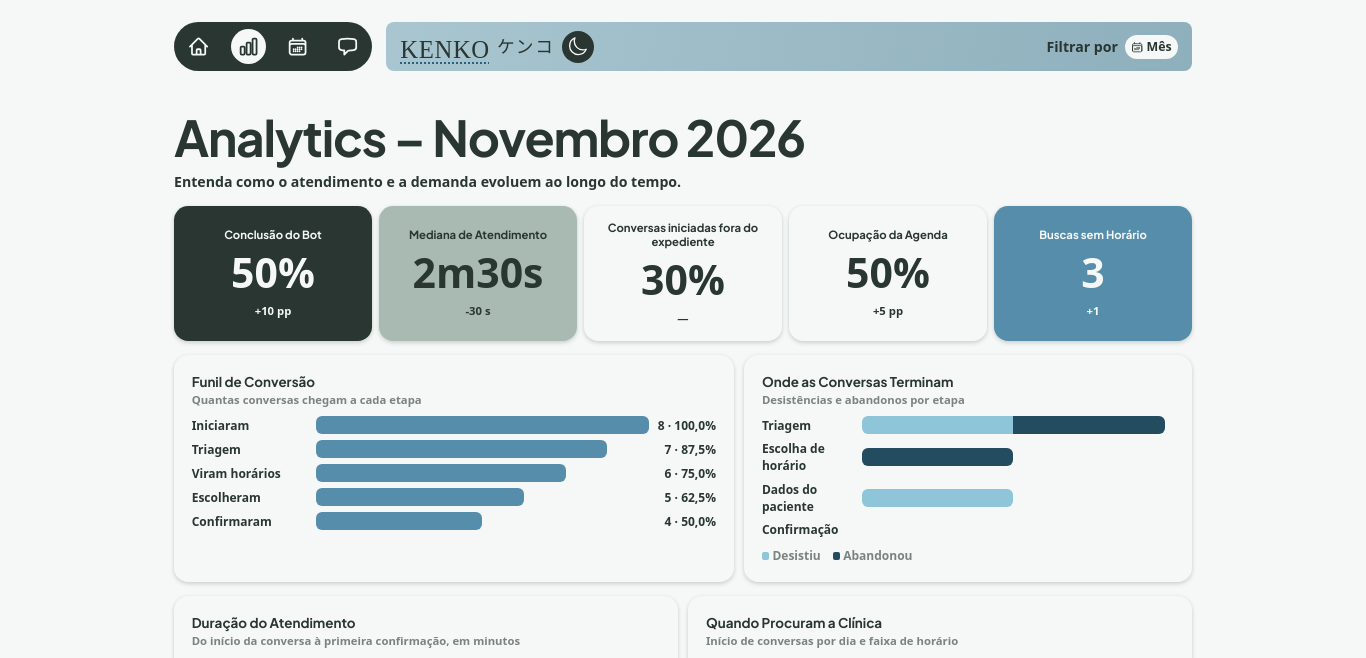
rejeita ano futuro em rascunho e descarta a edição com Escape
Click the heading named "Período de Analytics".
click(1151, 47)  # box x1=1125 y1=35 x2=1178 y2=59
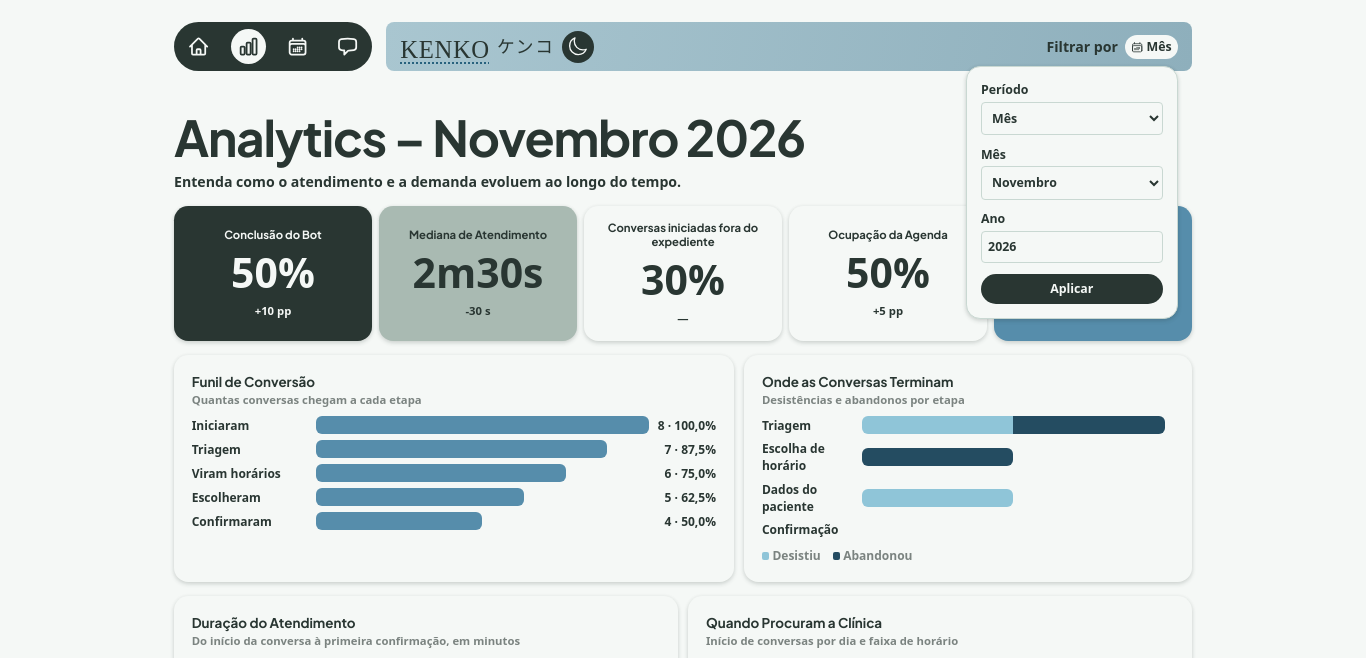
Select "Ano" in the dropdown labelled "Período" at (1072, 118), box x1=981 y1=102 x2=1163 y2=135
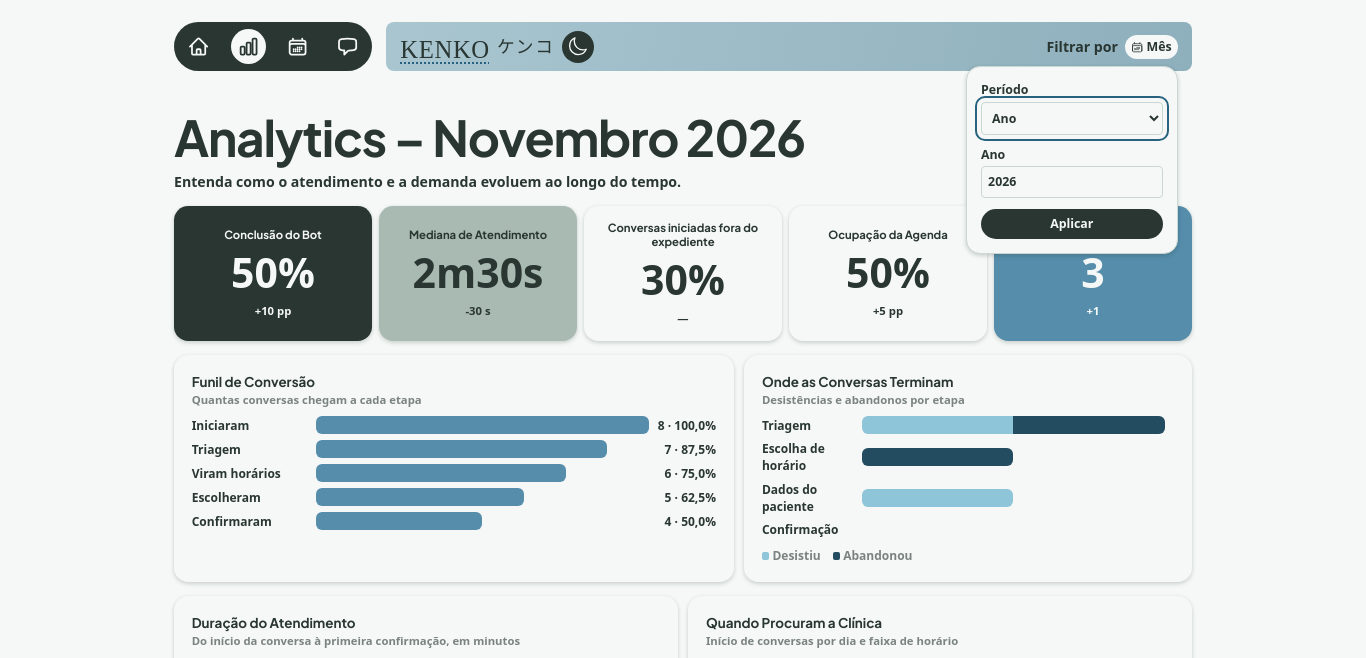
Replace the text in the number field labelled "Ano" with "2027" at (1072, 182), box x1=981 y1=166 x2=1163 y2=198
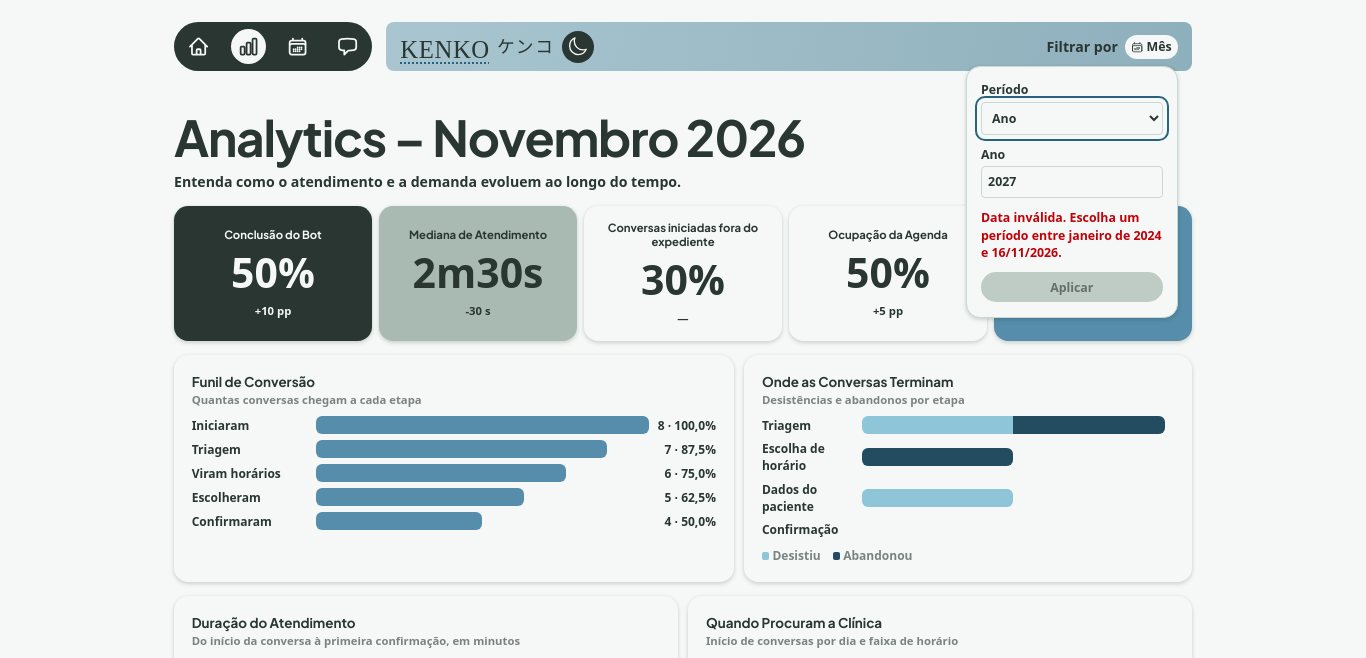
expect the button "Aplicar" is disabled: met, box x1=981 y1=272 x2=1163 y2=302
Submit the form, box x1=966 y1=66 x2=1178 y2=318
Press Escape
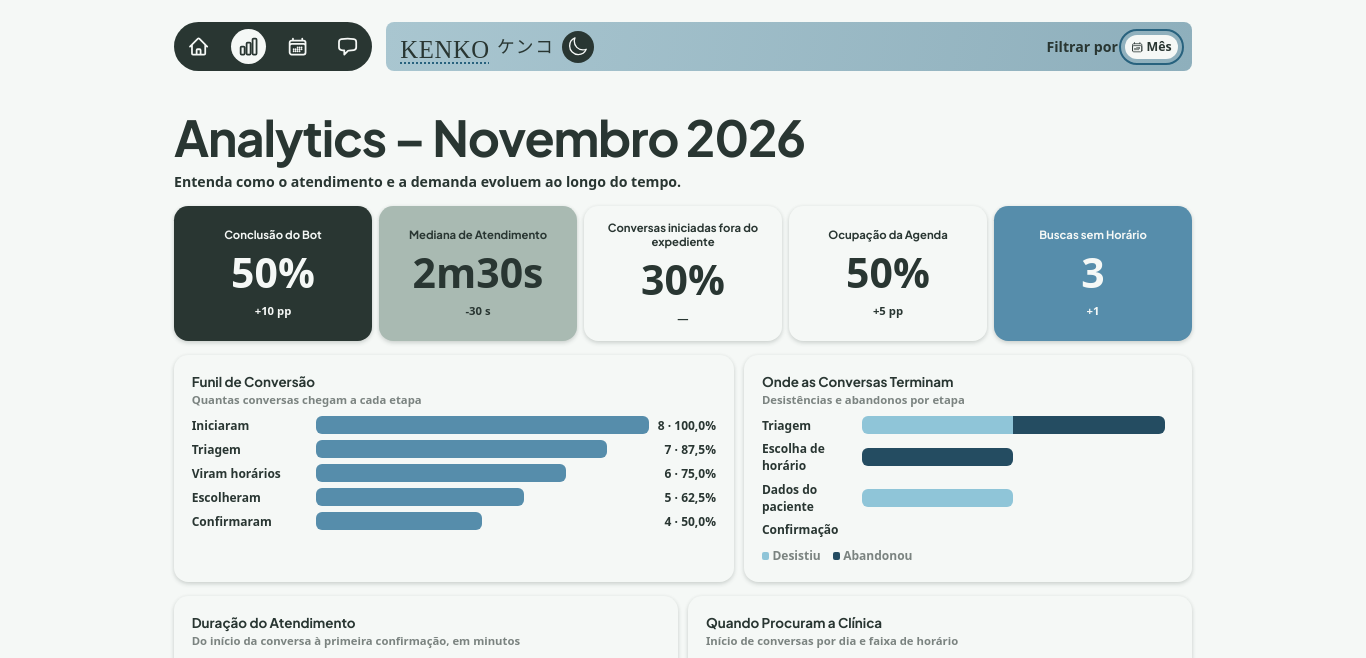
Click the heading named "Período de Analytics".
click(1151, 47)  # box x1=1125 y1=35 x2=1178 y2=59
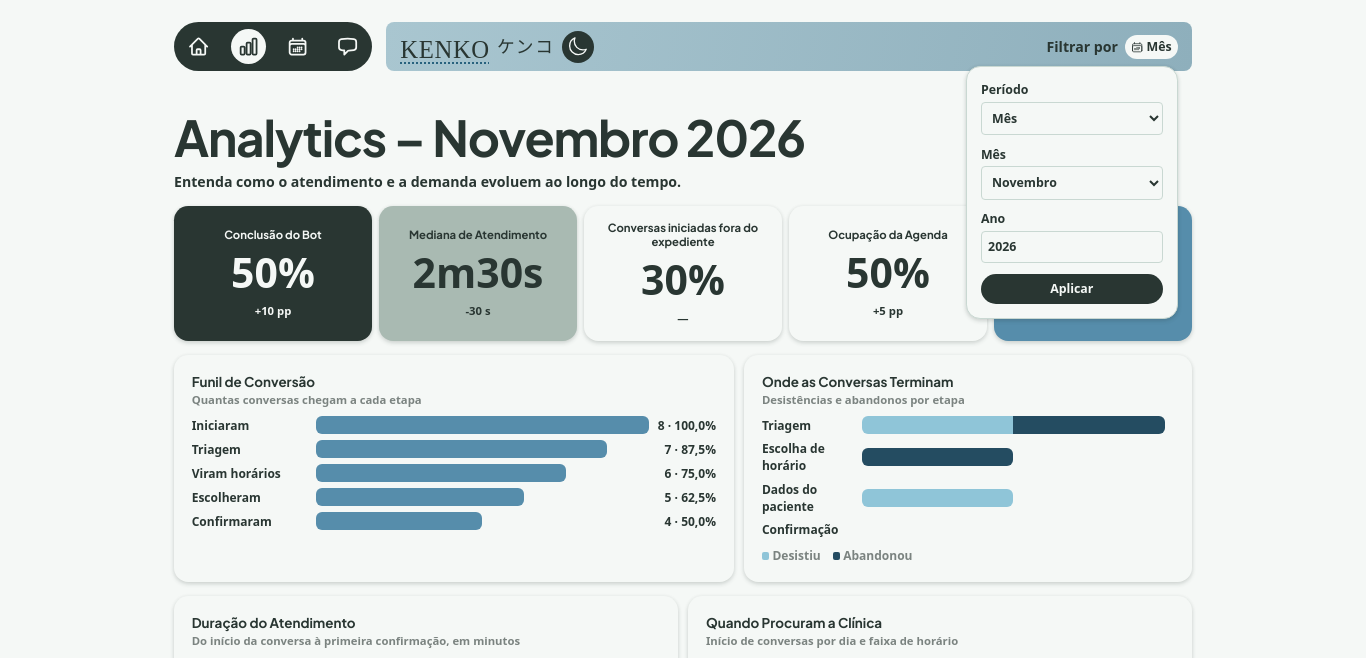
expect the dropdown labelled "Mês" shows "Novembro": met, box x1=981 y1=166 x2=1163 y2=200
